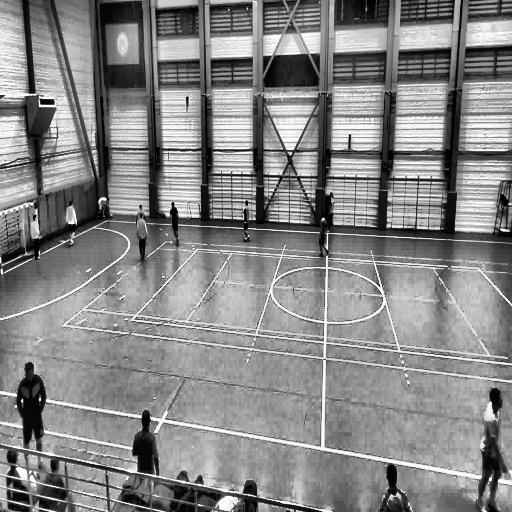ball: (109, 212, 114, 220)
player: (475, 386, 510, 508), (16, 364, 46, 468), (131, 411, 160, 499), (137, 203, 148, 261), (318, 208, 329, 256), (32, 213, 42, 262), (66, 200, 76, 246), (170, 202, 179, 247), (97, 193, 109, 222), (327, 191, 335, 231), (243, 200, 250, 242)
